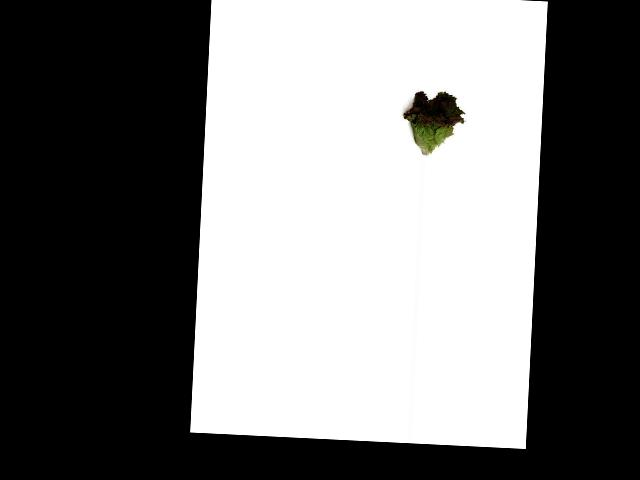lettuce: (395, 81, 469, 158)
